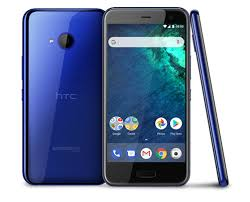htc: (102, 5, 192, 187), (19, 6, 105, 187)
